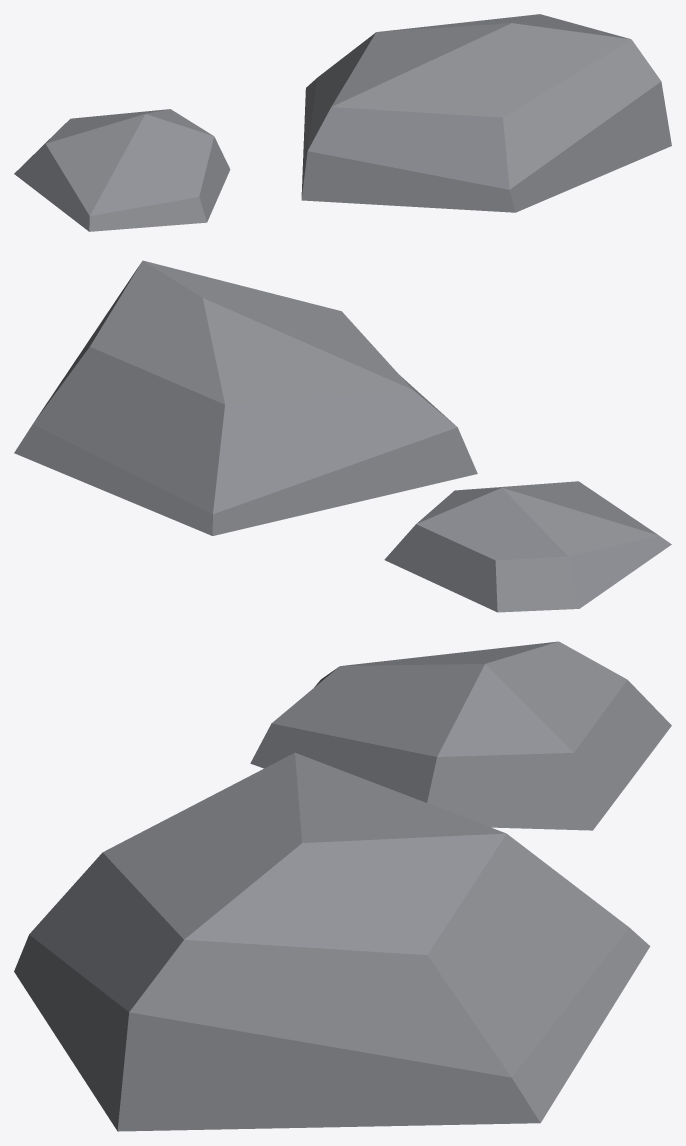
Rendered from stone_5.fbx.
3 renders of one model, top to bottom at view 1: azimuth 30°, elevation 25°; view 2: azimuth 150°, elevation 25°; view 3: azimuth 270°, elevation 25°, orthographic. The views are drawn at different scales.
Parts seen in each view (by area): view 1: stone_5; view 2: stone_5; view 3: stone_5.
Part boxes in pixels (x1,y1,x2,y2): stone_5: (14, 14, 671, 231); stone_5: (14, 260, 671, 612); stone_5: (14, 641, 671, 1131).
Size of the model in its own units: 136 by 27.41 by 83.57.
